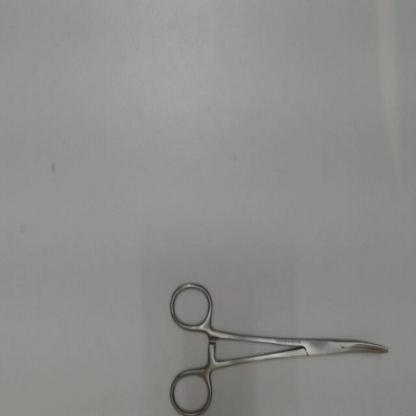Crile Artery Forceps: (167, 267, 399, 415)
